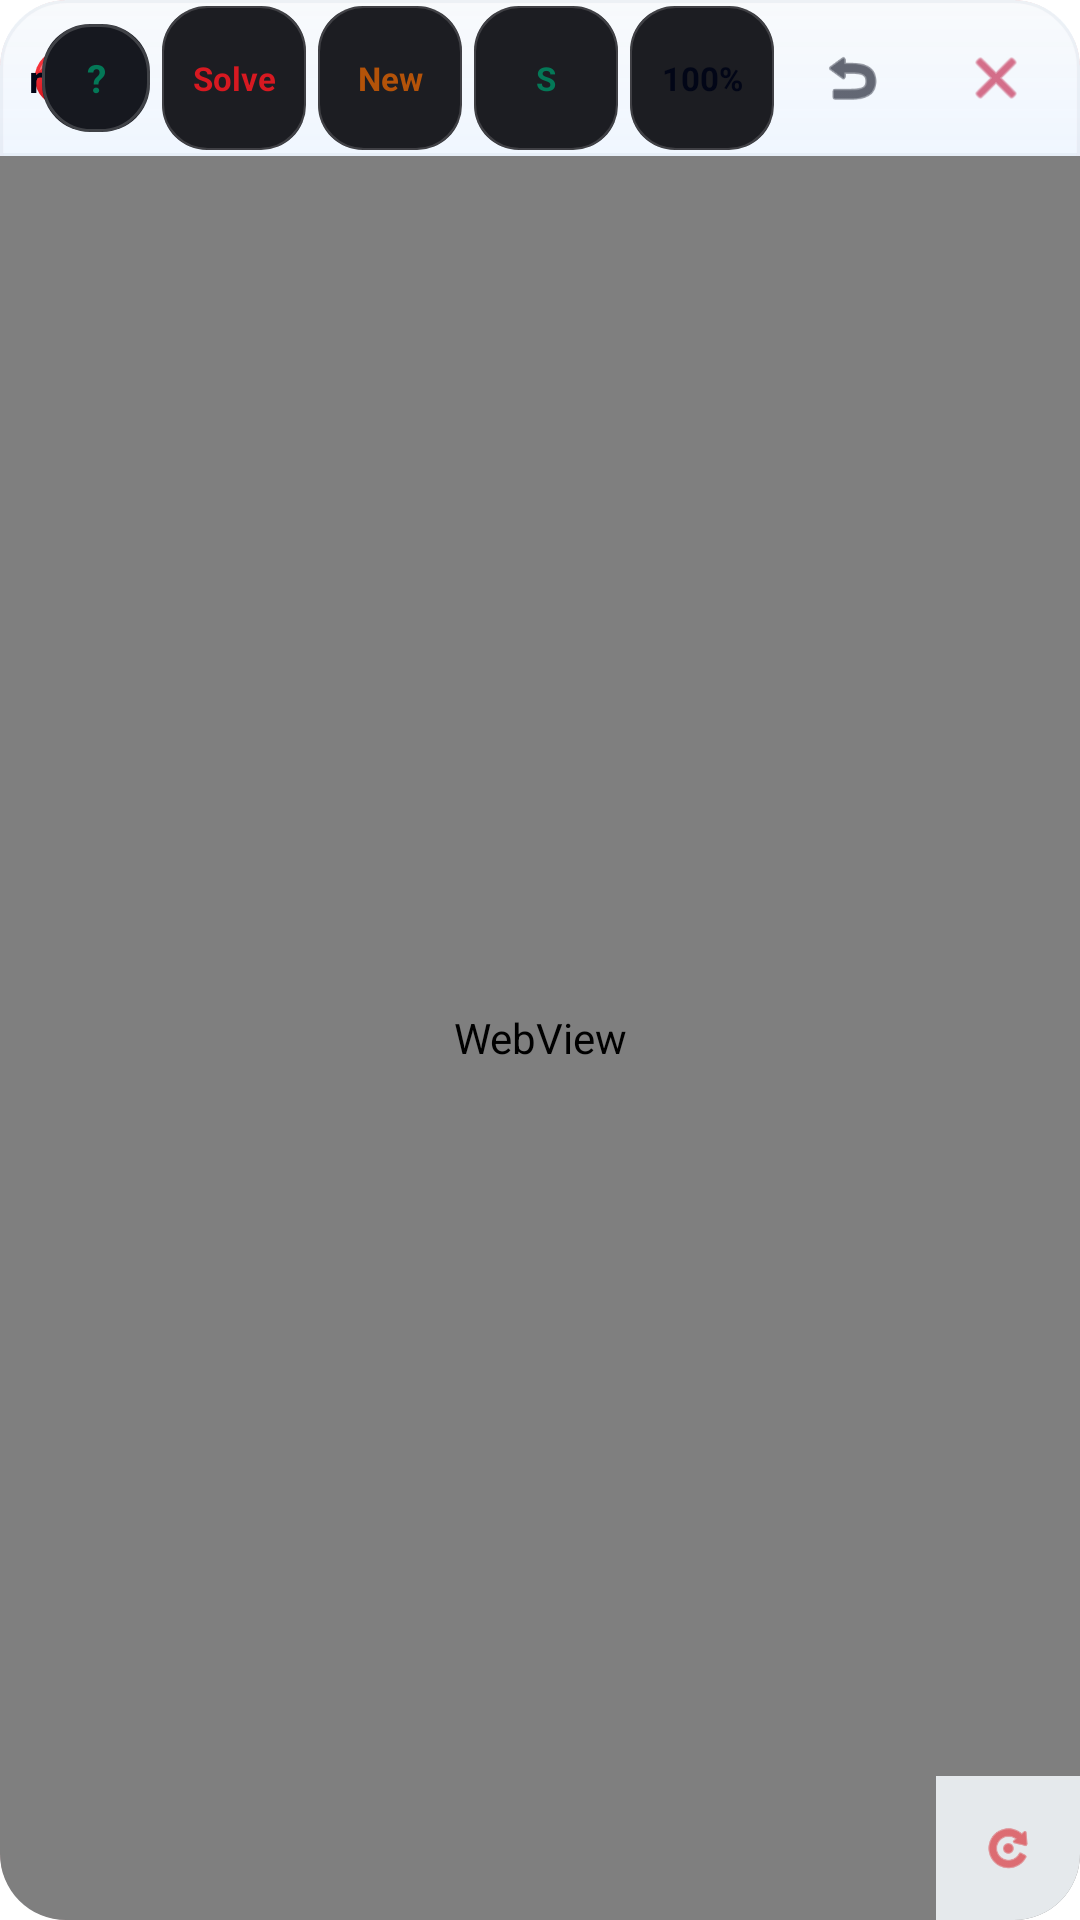

Named icons in this screenshot (1080 x 1920) and their bounding boxes, (x1, y1, x2, y2):
Close Window: (975, 57, 1017, 99)
rotate: (988, 1828, 1028, 1868)
